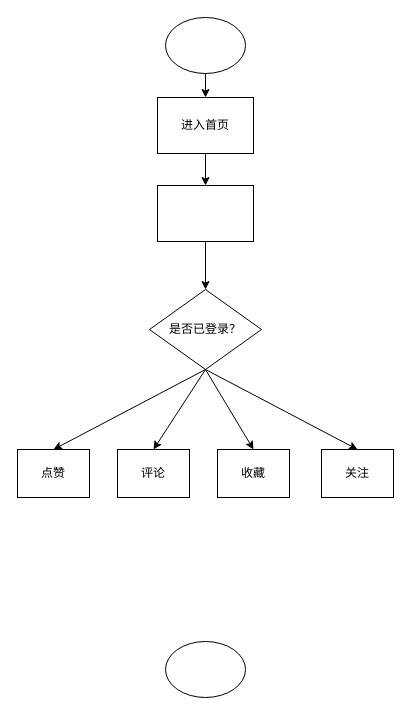
Image size: 411x715. Some labels were removed from this diagram. Here are the shapes that lost their labels. From the top down, the centre of each, then its label:
(x=205, y=45): 开始
(x=205, y=213): 查看动态
(x=205, y=669): 结束
